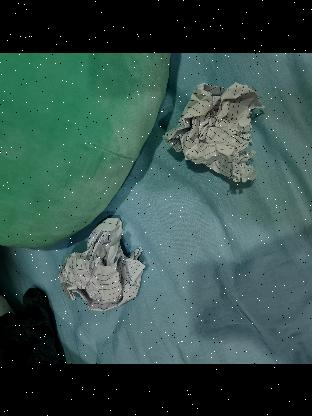Others: (166, 85, 262, 187), (60, 218, 146, 312)
